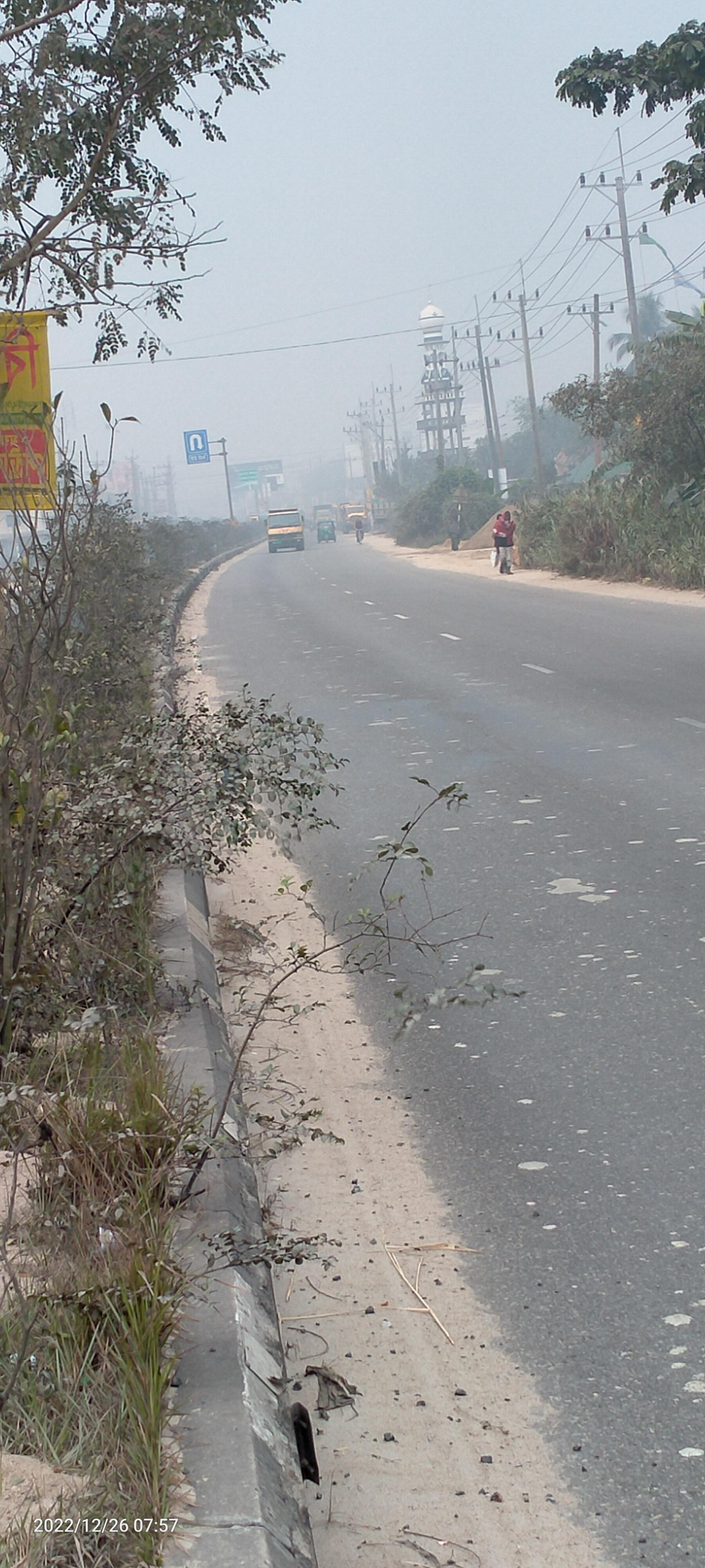Truck: (260, 505, 309, 555)
